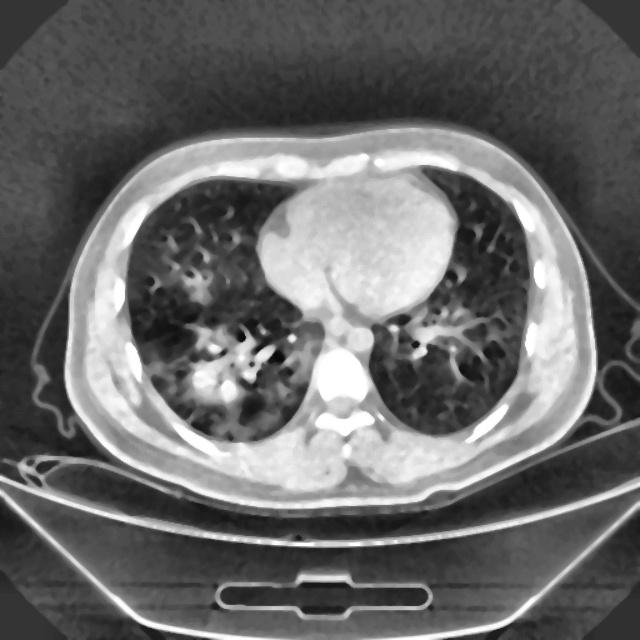covid: (62, 120, 597, 515)
